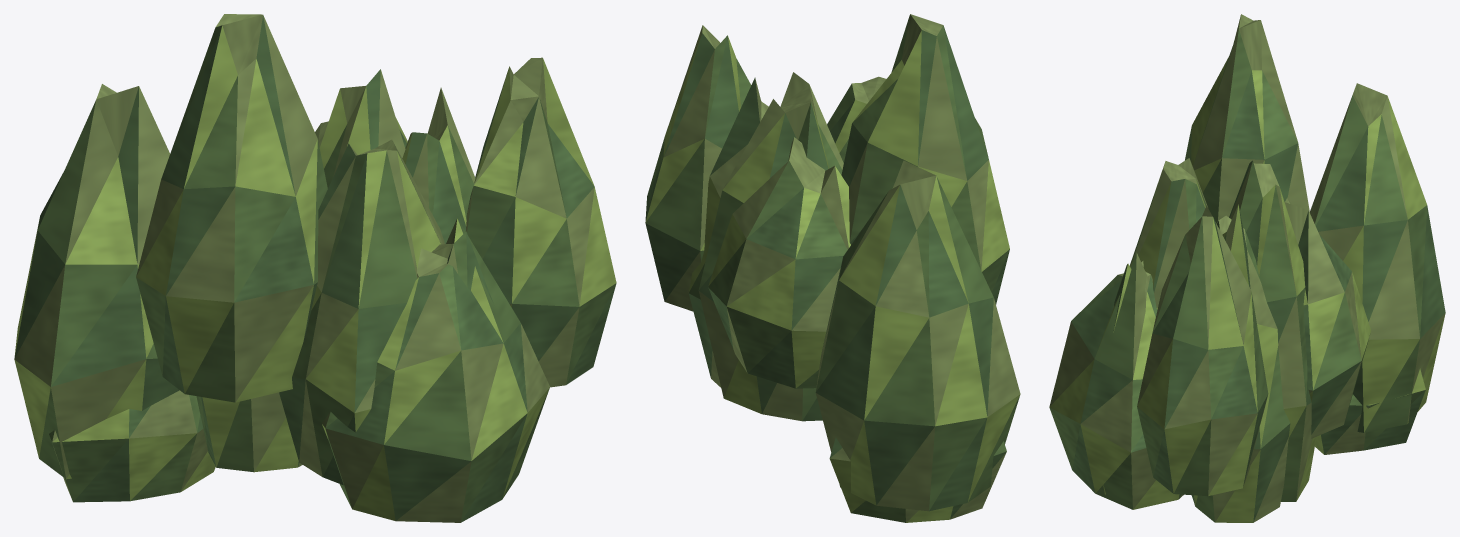
Rendered from bush_leafy_05.fbx.
3 renders of one model, left to right at view 1: azimuth 30°, elevation 25°; view 2: azimuth 150°, elevation 25°; view 3: azimuth 270°, elevation 25°, orthographic. The views are drawn at different scales.
Parts seen in each view (by area): view 1: bush_leafy_05; view 2: bush_leafy_05; view 3: bush_leafy_05.
Boxes of the visible parts, x1,y1,x2,y2 form: bush_leafy_05: (14,14,616,522); bush_leafy_05: (645,14,1020,522); bush_leafy_05: (1049,14,1445,522).
Bounding box in the file's own units: 184 × 178 × 150.
1 material, 1 textured.
